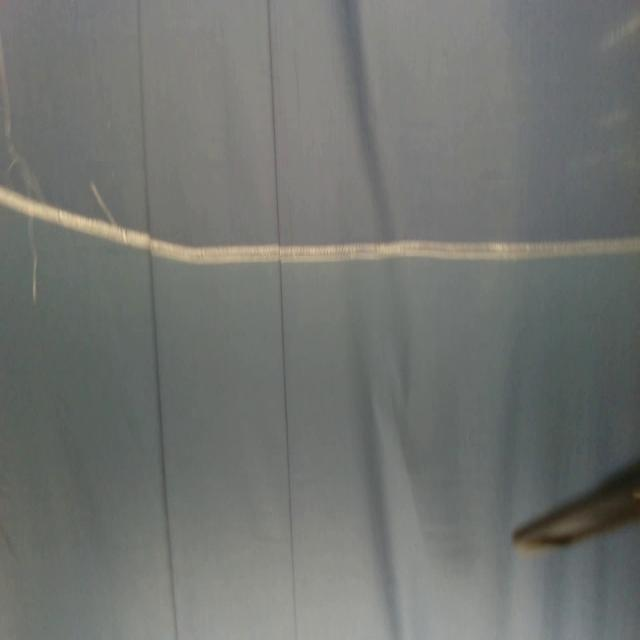crease: (137, 1, 178, 640), (266, 0, 300, 639)
